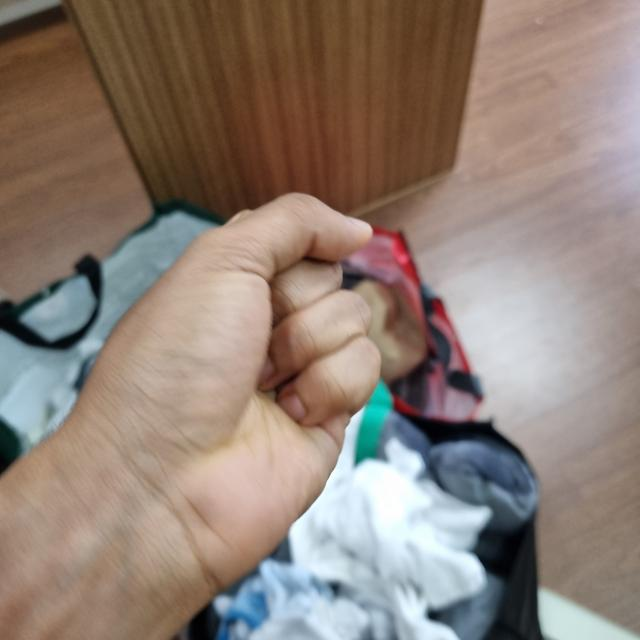Rock: (62, 193, 382, 593)
